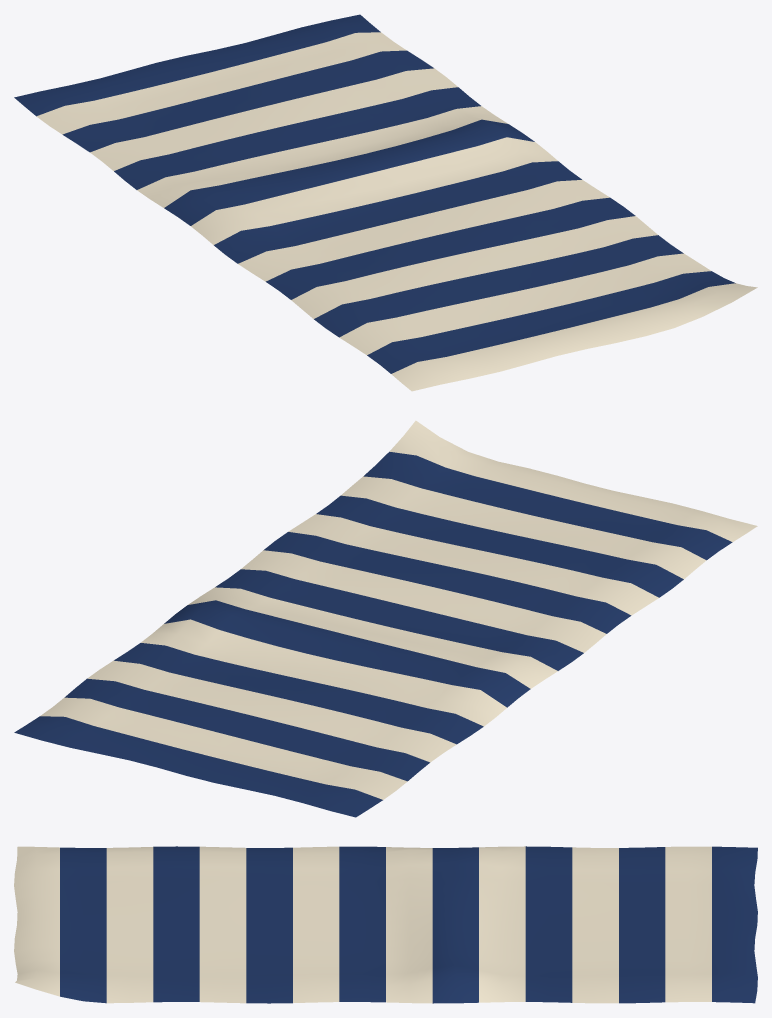
File: towel_a.glb
The picture shows the model from 3 angles, top to bottom: view 1: azimuth 30°, elevation 25°; view 2: azimuth 150°, elevation 25°; view 3: azimuth 270°, elevation 25°; orthographic projection. The views are drawn at different scales.
Parts seen in each view (by area): view 1: towel_a; view 2: towel_a; view 3: towel_a.
Part boxes in pixels (x1,y1,x2,y2): towel_a: (14,14,757,391); towel_a: (14,420,757,817); towel_a: (14,846,757,1003).
Size of the model in its own units: 0.798 by 0.0458 by 1.6.
